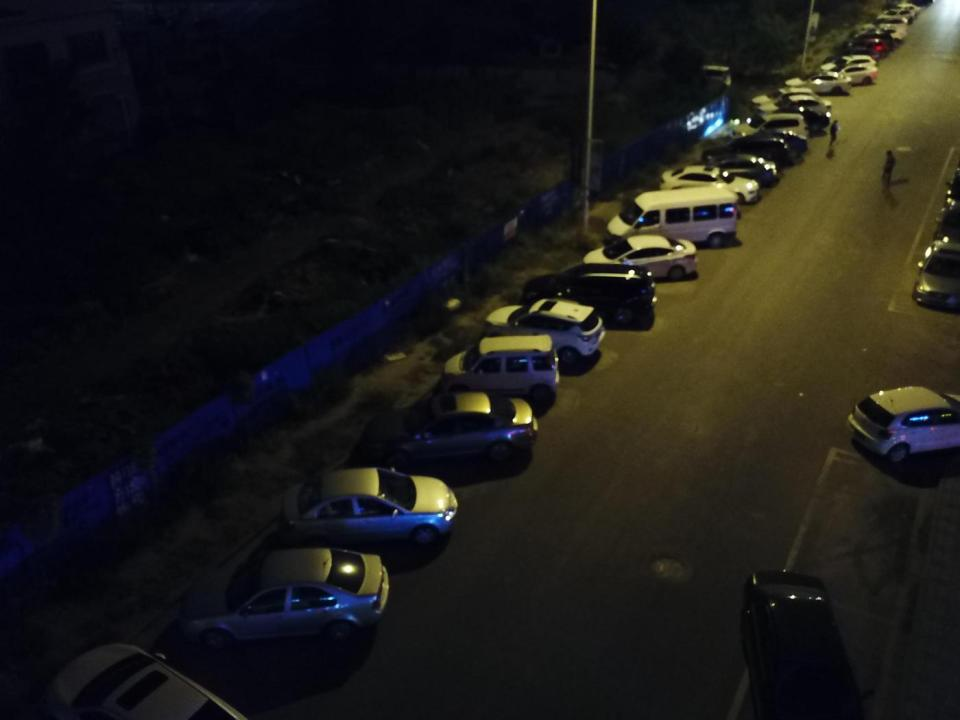car: (180, 544, 392, 647), (741, 566, 868, 720), (278, 463, 461, 554), (43, 641, 253, 720), (362, 394, 538, 468), (845, 384, 958, 464), (526, 264, 657, 328), (481, 300, 608, 366), (582, 235, 700, 285), (660, 163, 762, 207), (910, 234, 960, 311), (695, 153, 780, 193), (702, 135, 790, 171), (723, 114, 813, 146), (723, 132, 809, 160), (755, 96, 833, 125), (748, 89, 829, 115), (748, 109, 831, 132), (783, 73, 852, 98), (820, 63, 879, 87), (847, 28, 895, 56), (819, 55, 877, 77), (832, 44, 880, 70), (858, 26, 908, 47), (848, 39, 892, 62), (859, 18, 909, 38), (878, 7, 915, 26), (888, 1, 921, 18)
van: (441, 330, 563, 402), (604, 189, 739, 250)
